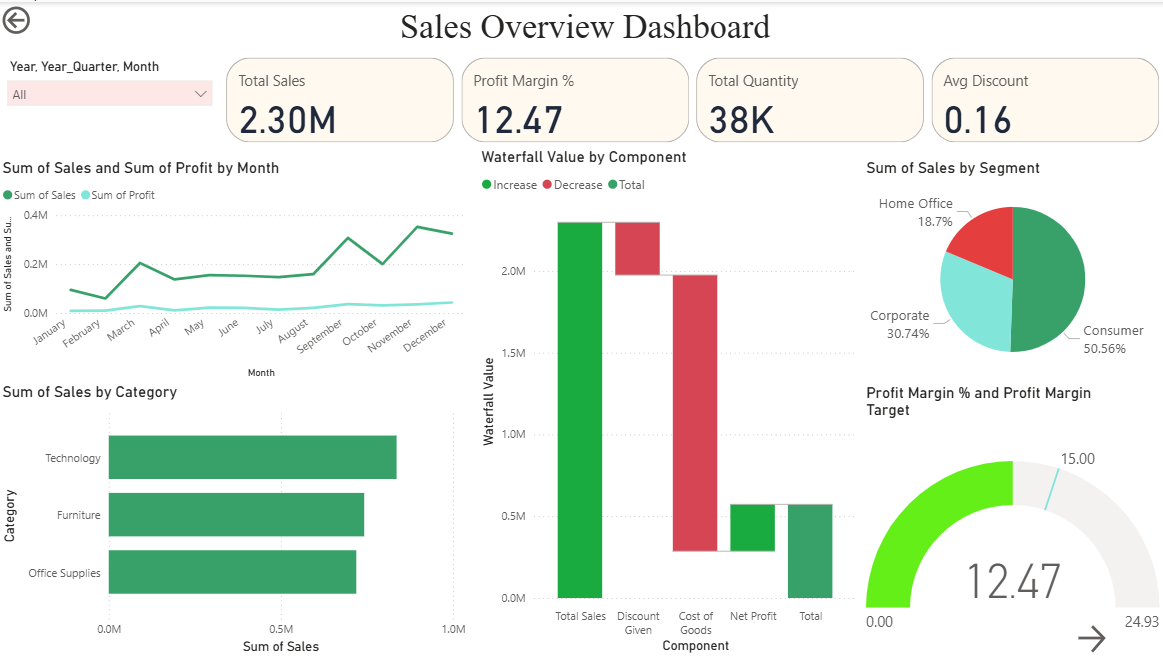

The dashboard page shown, as its layout file describes it:
{"tool":"powerbi","page":{"name":"Page 1","canvas":[1280,720],"ordinal":0},"visuals":[{"type":"textbox","box":[10,0,1270,55.7],"z":0},{"type":"cardVisual","fields":{"Data":["Sales.Total Sales","Sales.Profit Margin %","Sales.Total Quantity","Sales.Avg Discount"]},"box":[245,56.2,1035,103.8],"z":1000},{"type":"lineChart","fields":{"Y":["Sum(Sales.Sales)","Sum(Sales.Profit)"],"Category":["Date.Year","Date.Quarter","Date.Month"]},"box":[0,171.5,518.7,247],"z":2000},{"type":"barChart","fields":{"Y":["Sum(Sales.Sales)"],"Category":["Product.Category"]},"box":[0,417.2,518.7,303.3],"z":3000},{"type":"pieChart","fields":{"Category":["Customer.Segment"],"Y":["Sum(Sales.Sales)"]},"box":[948.2,171.5,332.1,245.6],"z":4000},{"type":"actionButton","box":[0,0,100,40],"z":5000},{"type":"waterfallChart","fields":{"Category":["Waterfall_SalesFlow.Component"],"Y":["Sales.Waterfall Value"]},"box":[525.6,159.2,422.6,559.9],"z":6000},{"type":"slicer","fields":{"Values":["Date.Year","Date.Year_Quarter","Date.Month"]},"box":[0,57,245.2,104.1],"z":7000},{"type":"gauge","fields":{"Y":["Sales.Profit Margin %"],"TargetValue":["Sales.Profit Margin Target"]},"box":[948,418,332,302],"z":8000},{"type":"actionButton","box":[1180.2,679.9,99.8,39.9],"z":9000}]}

Visuals, with their boxes in screenshot pixels (x1, y1, x2, y2), scaled from the page's 1280x720 canvas onto the 1163x656 screenshot:
textbox: 9:0:1162:51
cardVisual - Sales.Total Sales x Sales.Profit Margin %: 223:51:1162:146
lineChart - Sum(Sales.Sales) x Sum(Sales.Profit): 0:156:471:381
barChart - Sum(Sales.Sales) x Product.Category: 0:380:471:655
pieChart - Customer.Segment x Sum(Sales.Sales): 862:156:1162:380
actionButton: 0:0:91:36
waterfallChart - Waterfall_SalesFlow.Component x Sales.Waterfall Value: 478:145:862:655
slicer - Date.Year x Date.Year_Quarter: 0:52:223:147
gauge - Sales.Profit Margin % x Sales.Profit Margin Target: 861:381:1162:655
actionButton: 1072:619:1162:655
